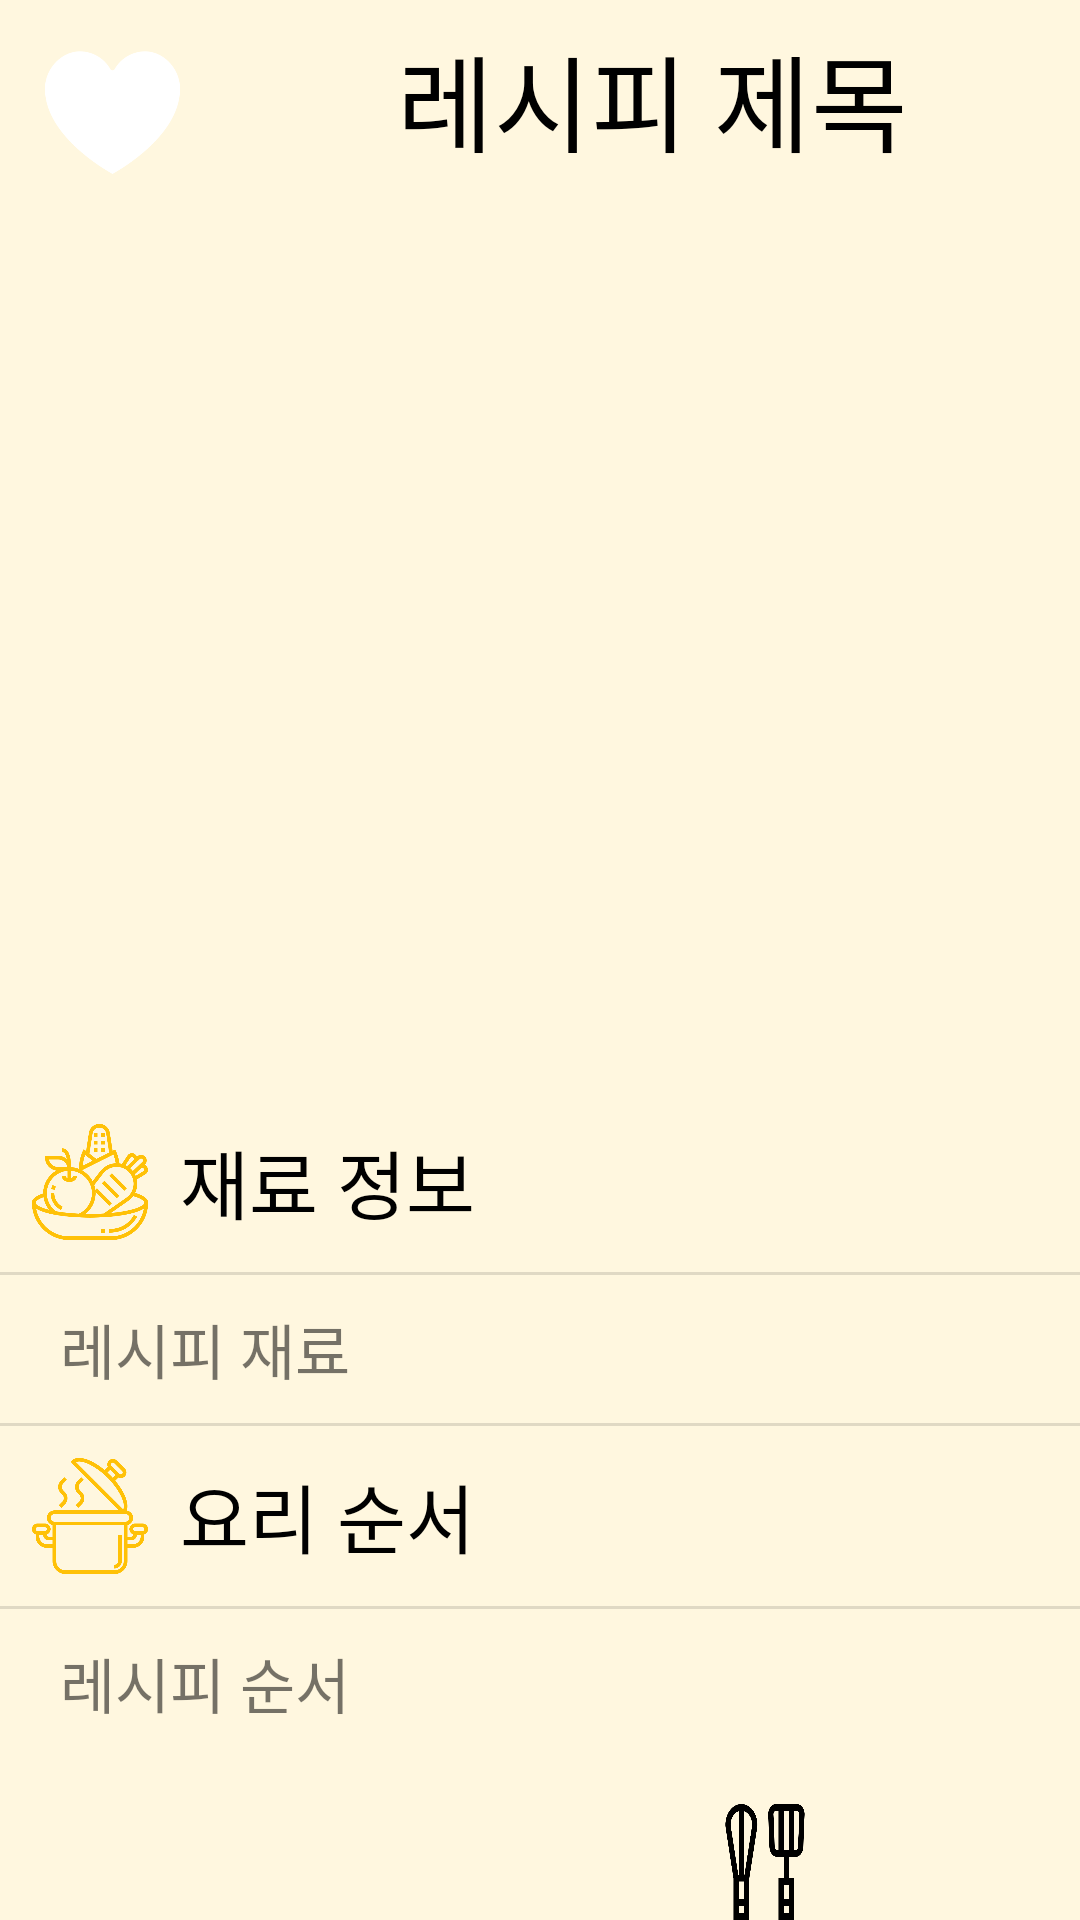

Screen size 1080 × 1920. Icon name, then its center in pixels as (x,y):
cook: (765,1862)
ingredients: (90,1182)
pot: (90,1516)
